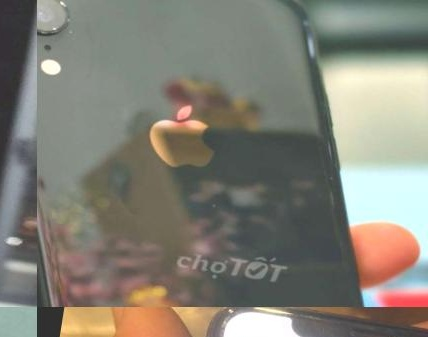scratch: (54, 8, 81, 36), (199, 196, 227, 216), (53, 0, 72, 17)
